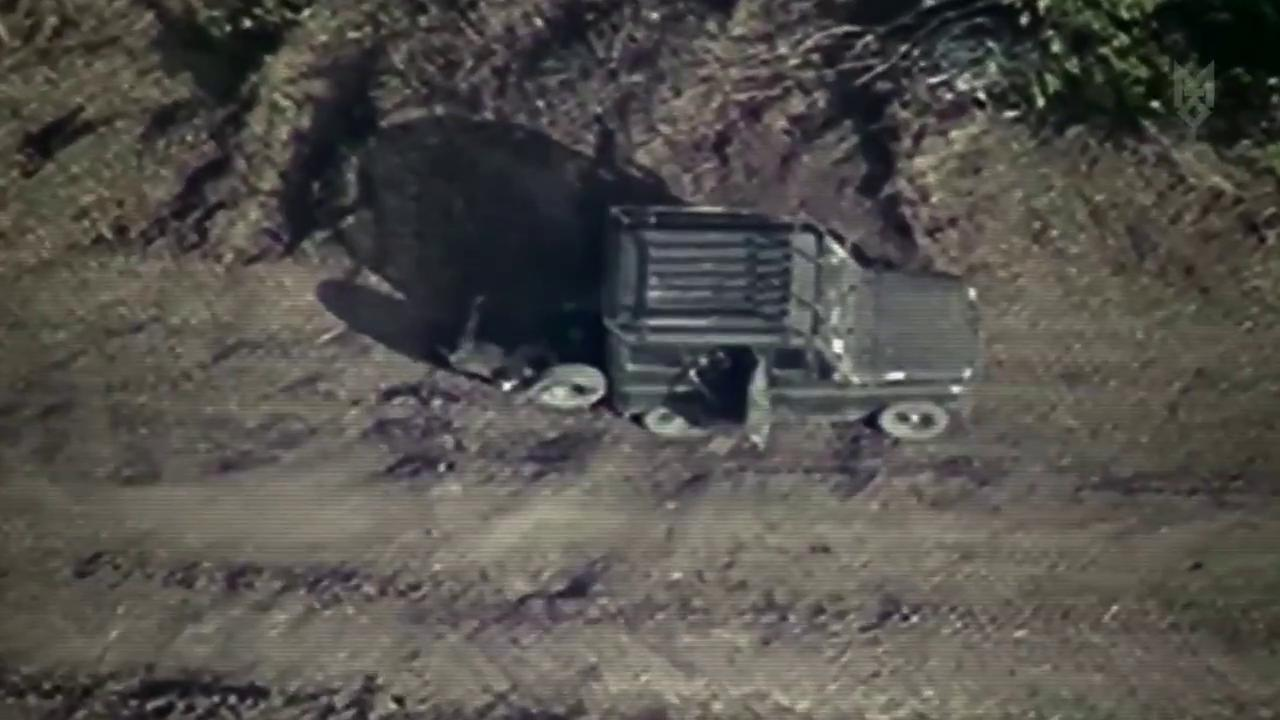tank: (599, 195, 991, 444)
